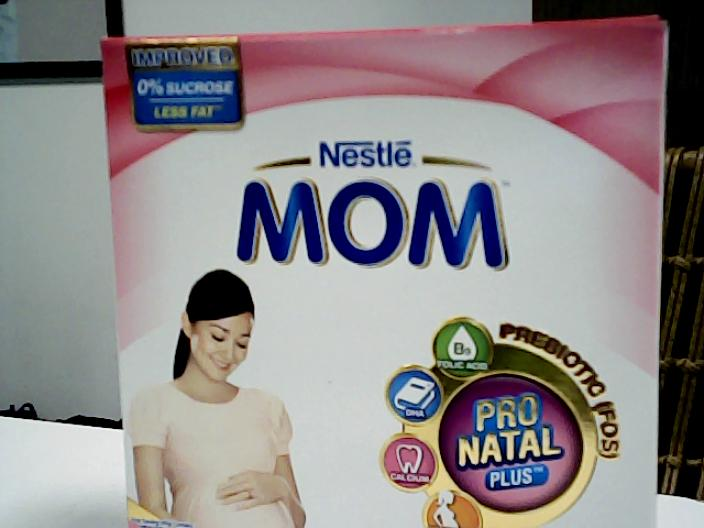MaternalMilkPowder_600-699g_Halal_NonHealthy: (114, 39, 644, 524)
